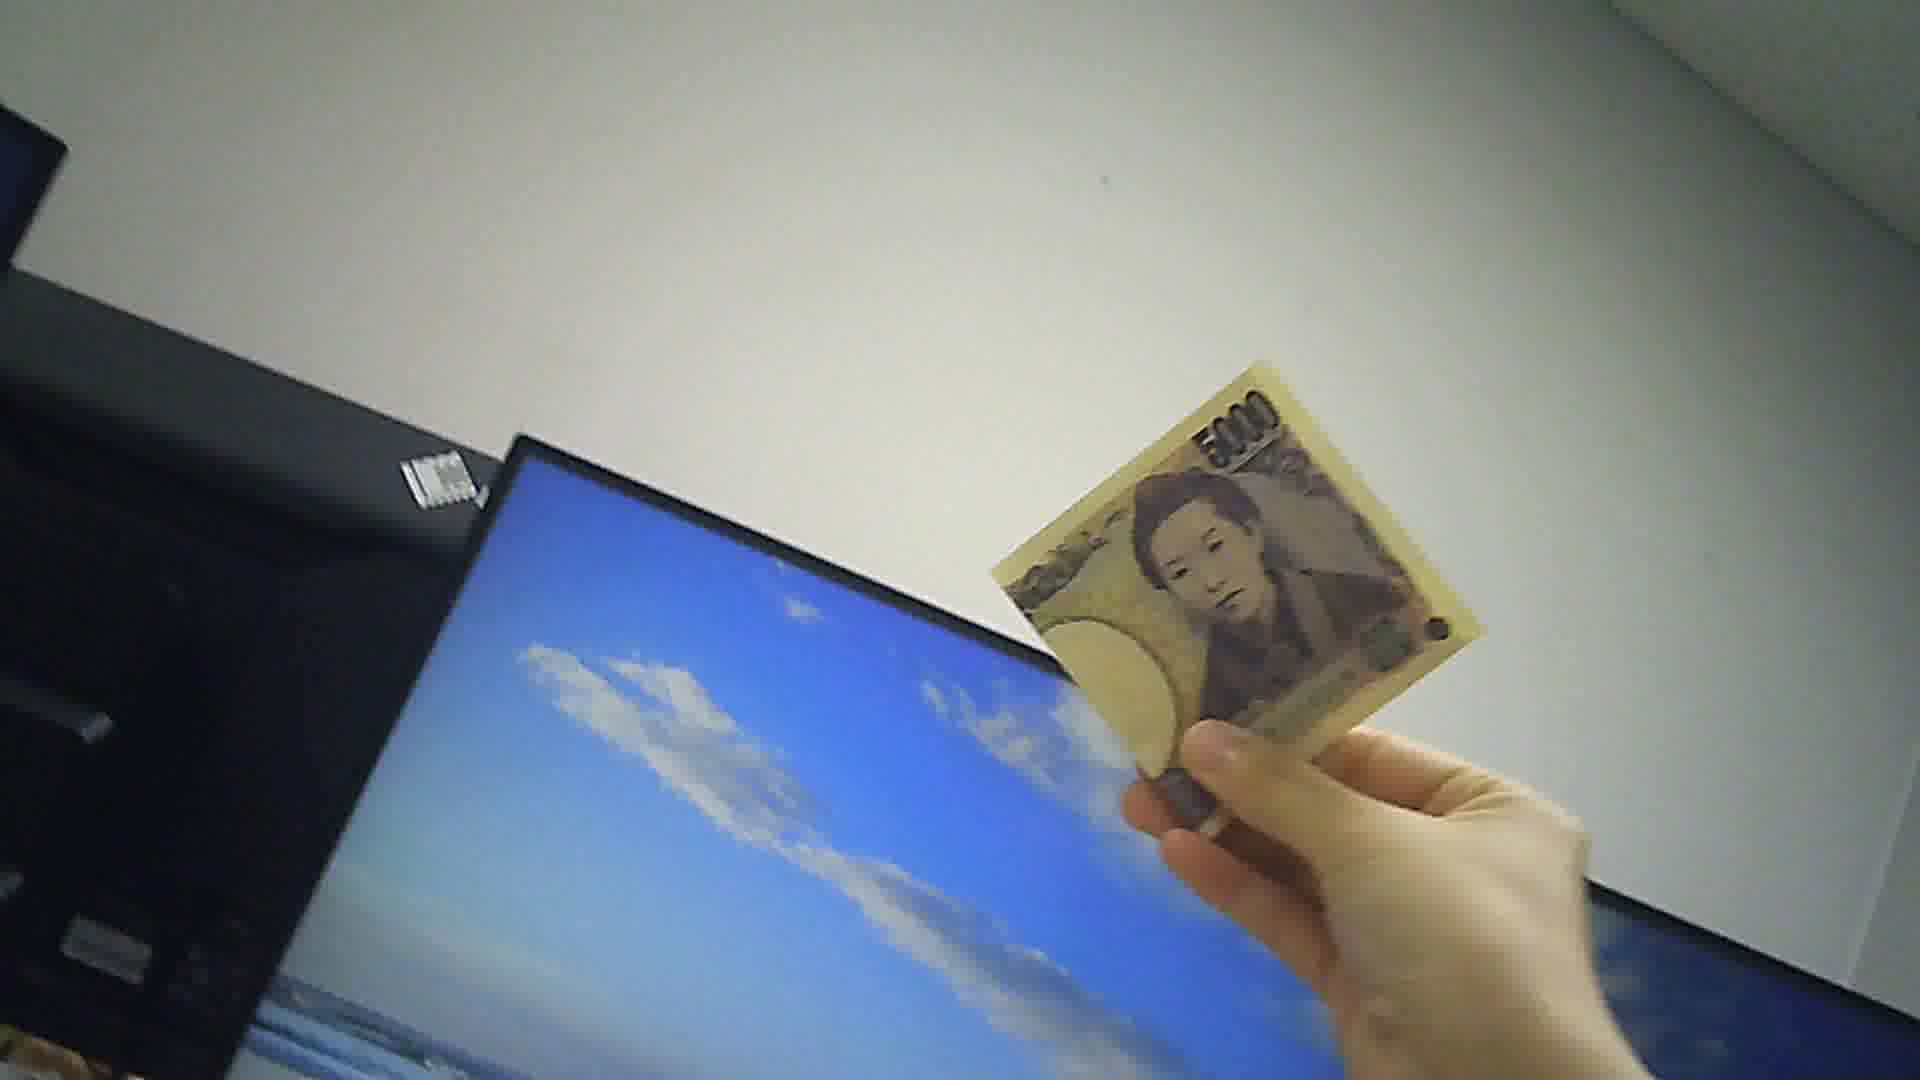5,000 Yen: (997, 355, 1484, 837)
